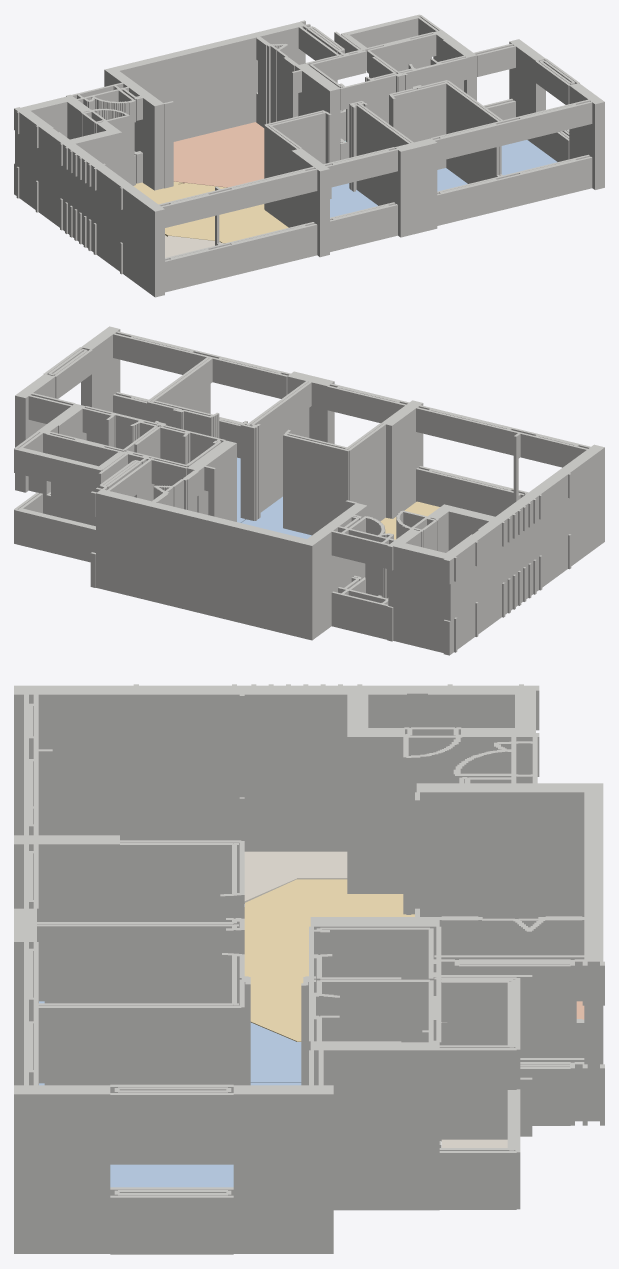
3 views of the same model, one above another, from view 1: azimuth 30°, elevation 25°; view 2: azimuth 150°, elevation 25°; view 3: azimuth 270°, elevation 25° (orthographic). The views are drawn at different scales.
Parts seen in each view (by area): view 1: walls, room:kitchen:0, room:living:5, room:bedroom:9, room:bedroom:6, room:other:7, room:bedroom:8; view 2: walls, room:bedroom:6, room:living:5; view 3: walls, room:living:5, room:other:7, room:bedroom:9, room:bedroom:6.
Part boxes in pixels (left/top/right/bottom): walls: left=14, top=14, right=604, bottom=297; room:kitchen:0: left=173, top=122, right=264, bottom=187; room:living:5: left=133, top=181, right=288, bottom=243; room:bedroom:9: left=501, top=140, right=557, bottom=175; room:bedroom:6: left=330, top=183, right=377, bottom=217; room:other:7: left=165, top=235, right=224, bottom=257; room:bedroom:8: left=437, top=168, right=467, bottom=191; walls: left=14, top=326, right=604, bottom=655; room:bedroom:6: left=241, top=496, right=311, bottom=538; room:living:5: left=380, top=501, right=439, bottom=539; walls: left=14, top=684, right=604, bottom=1254; room:living:5: left=244, top=879, right=414, bottom=1041; room:other:7: left=244, top=851, right=347, bottom=903; room:bedroom:9: left=110, top=1164, right=233, bottom=1187; room:bedroom:6: left=39, top=1001, right=301, bottom=1082.
Size of the model in its own units: 15.44 by 2.8 by 9.39.
